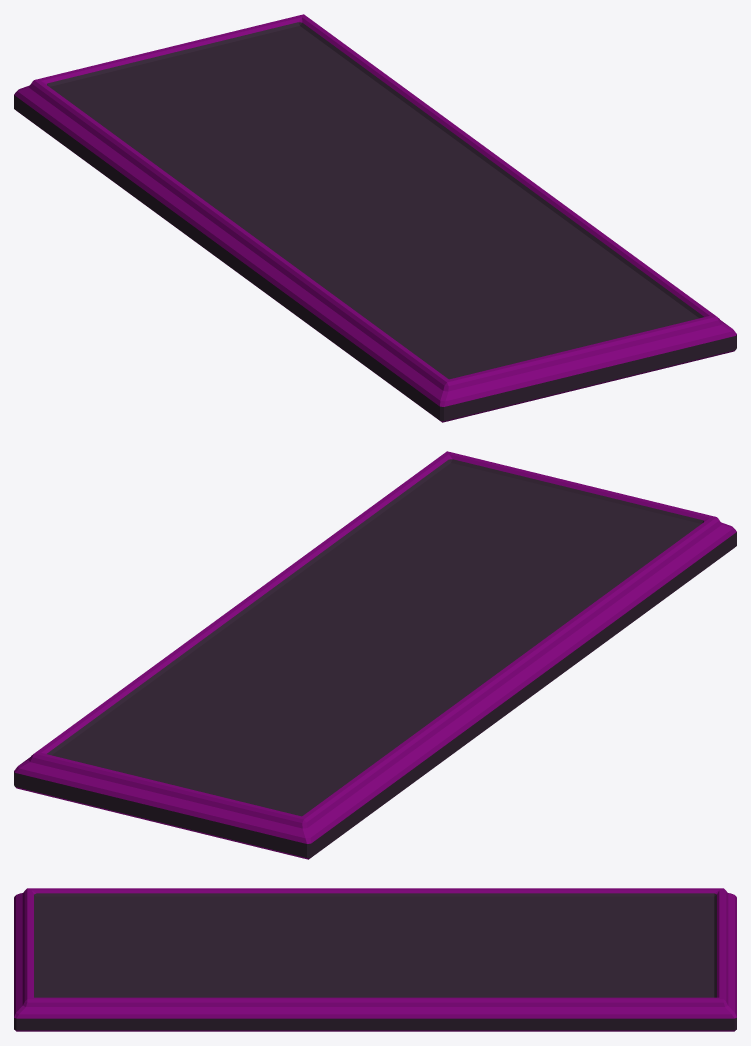
File: Swing Trap Base.fbx
3 renders of one model, top to bottom at view 1: azimuth 30°, elevation 25°; view 2: azimuth 150°, elevation 25°; view 3: azimuth 270°, elevation 25°, orthographic. The views are drawn at different scales.
Visible parts, largest first — view 1: Base; view 2: Base; view 3: Base.
Part boxes in pixels (x1,y1,x2,y2): Base: [14, 14, 736, 422]; Base: [14, 451, 736, 859]; Base: [14, 888, 736, 1031].
Size of the model in its own units: 200 by 21.14 by 500.
